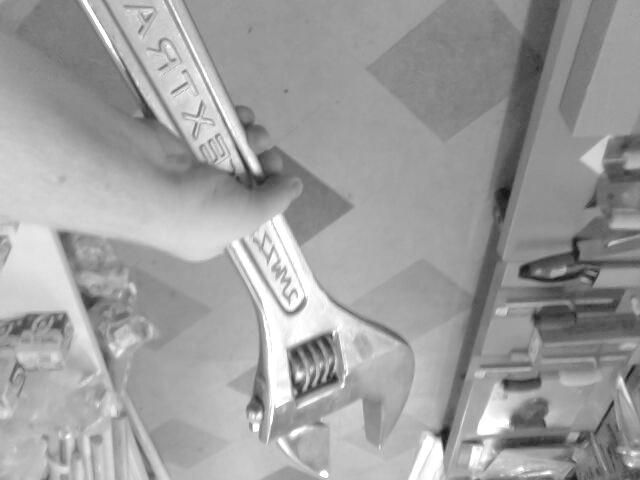Adjustable spanner: (80, 0, 414, 478)
Hand: (1, 28, 301, 261)
